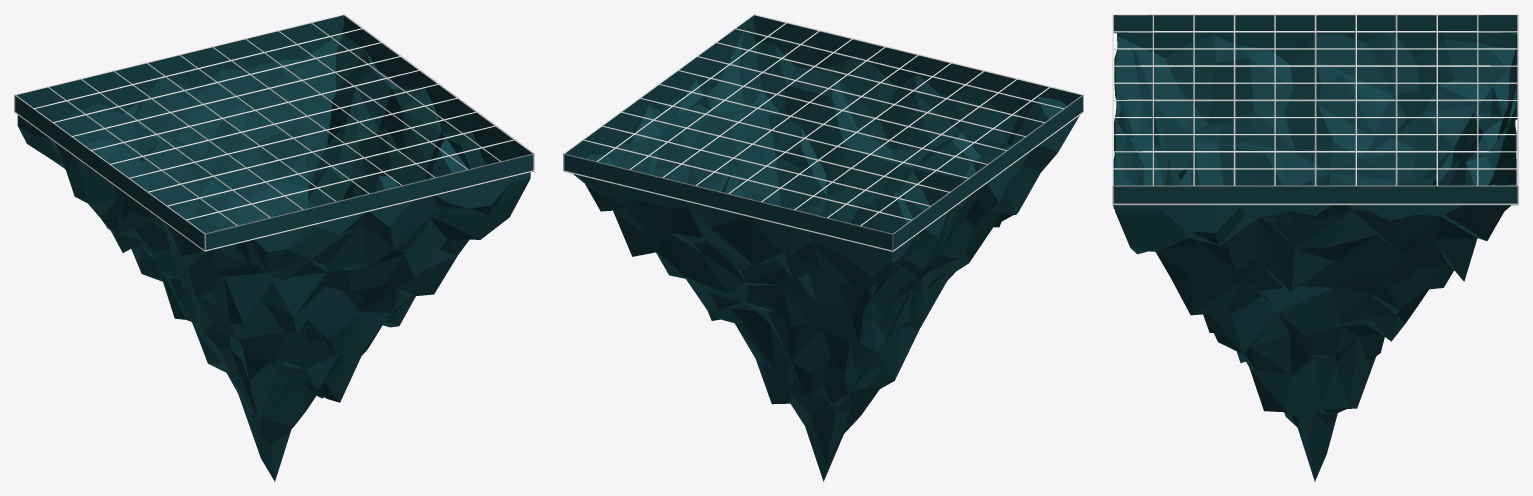
The model's file is BoardIsland.fbx.
3 views of the same model, side by side, from view 1: azimuth 30°, elevation 25°; view 2: azimuth 150°, elevation 25°; view 3: azimuth 270°, elevation 25° (orthographic). The views are drawn at different scales.
Parts seen in each view (by area): view 1: Rock_Cube.006, Top_Cube.001, Grid_Cube.002; view 2: Rock_Cube.006, Top_Cube.001, Grid_Cube.002; view 3: Rock_Cube.006, Grid_Cube.002, Top_Cube.001.
Part boxes in pixels (<box>): Rock_Cube.006: <box>17,27,530,481</box>; Top_Cube.001: <box>15,15,533,249</box>; Grid_Cube.002: <box>14,14,534,251</box>; Rock_Cube.006: <box>573,26,1079,481</box>; Top_Cube.001: <box>564,15,1082,250</box>; Grid_Cube.002: <box>563,14,1083,251</box>; Rock_Cube.006: <box>1113,26,1517,481</box>; Grid_Cube.002: <box>1112,14,1518,205</box>; Top_Cube.001: <box>1113,15,1517,203</box>.
Bounding box in the file's own units: 201 × 208 × 201.
